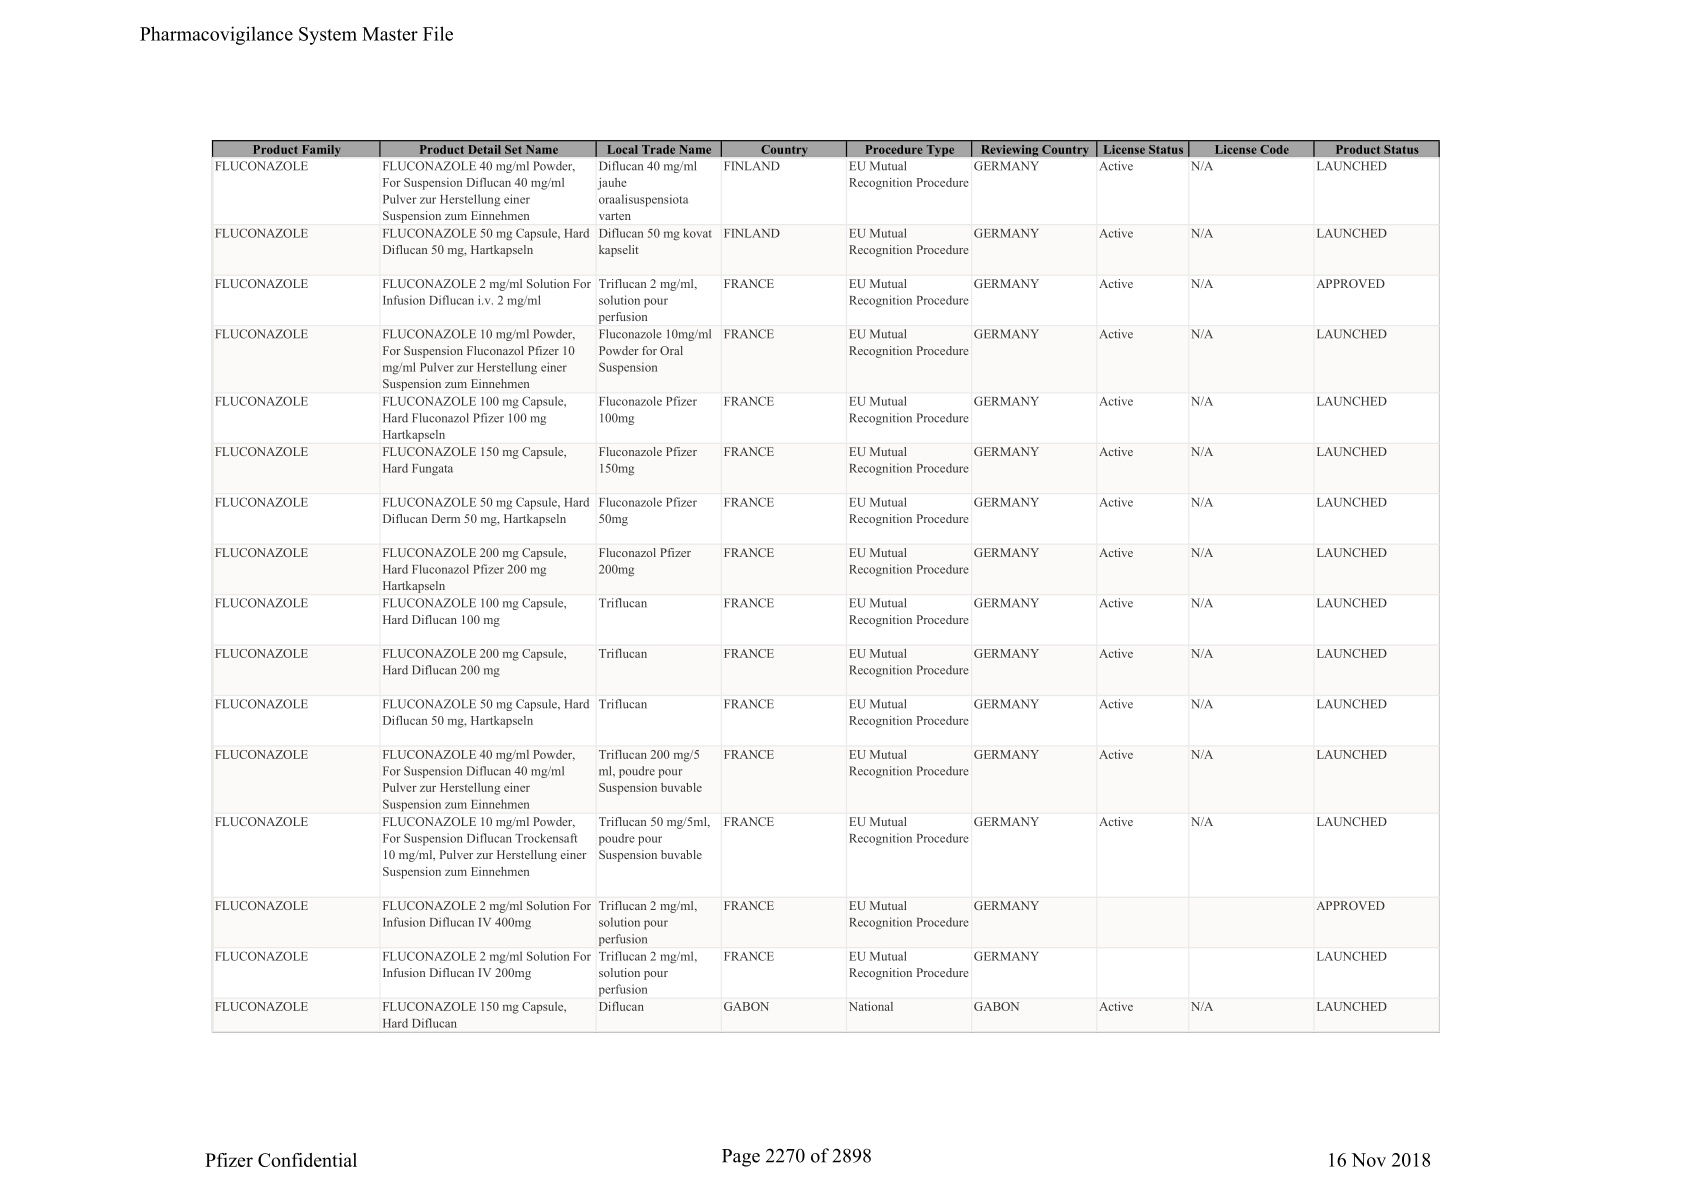full_lined: (211, 140, 1440, 1032)
